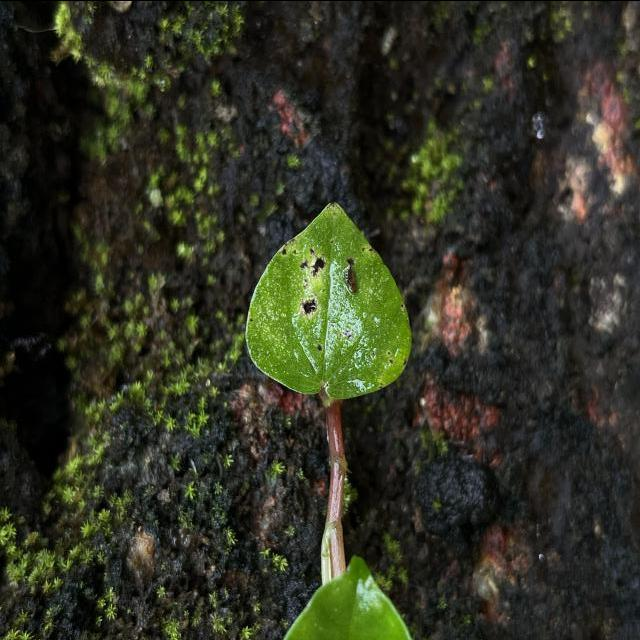Peperomia pellucida: (241, 196, 414, 402)
